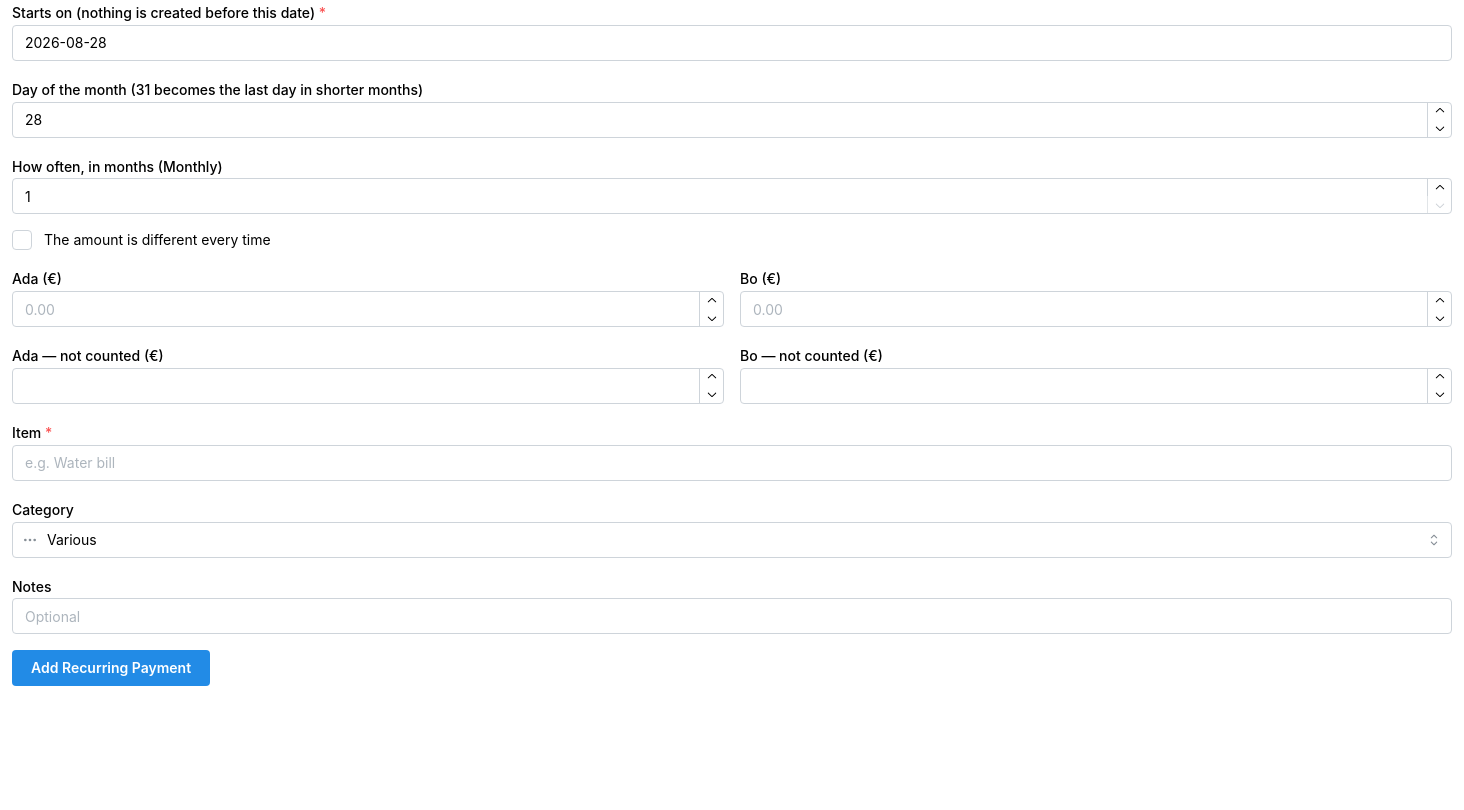
Test case: RecurringForm › refuses more set aside than the payment itself
In the field labelled "Item": (732, 463) [12, 445, 1452, 481], type "Phone bill"
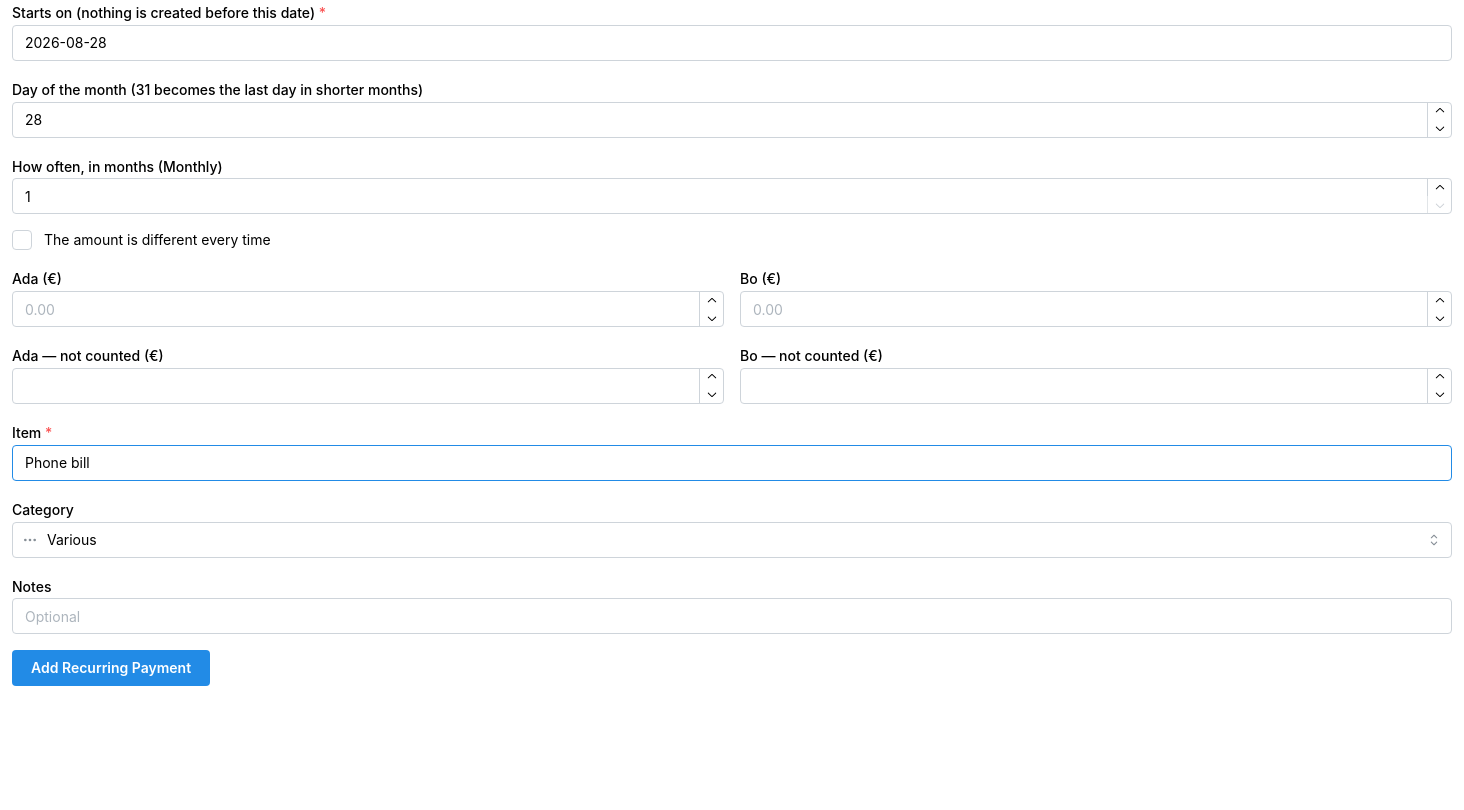
In the field labelled "Ada (€)": (368, 309) [12, 291, 724, 327], type "30"
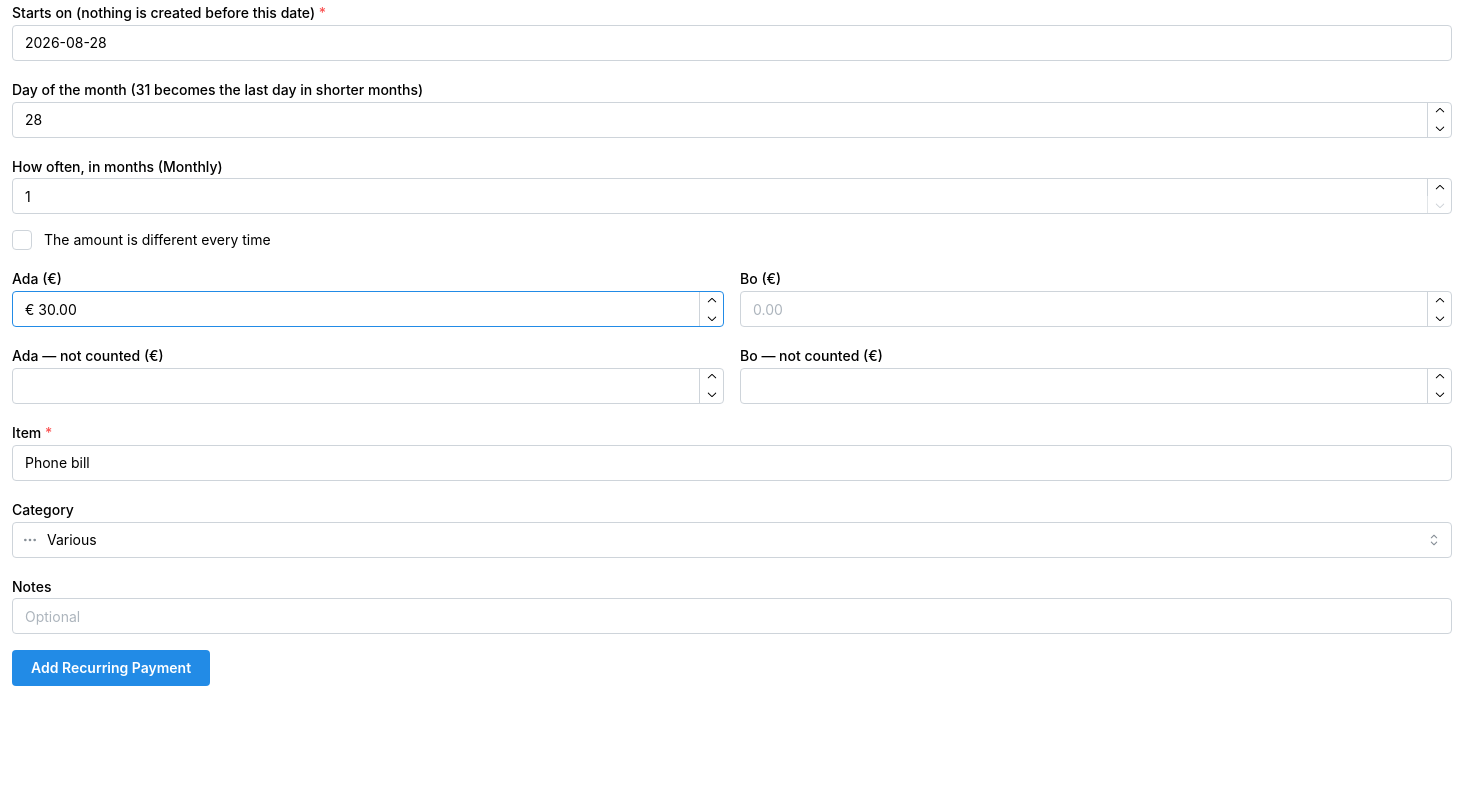
In the field labelled "Ada — not counted (€)": (368, 386) [12, 368, 724, 404], type "50"
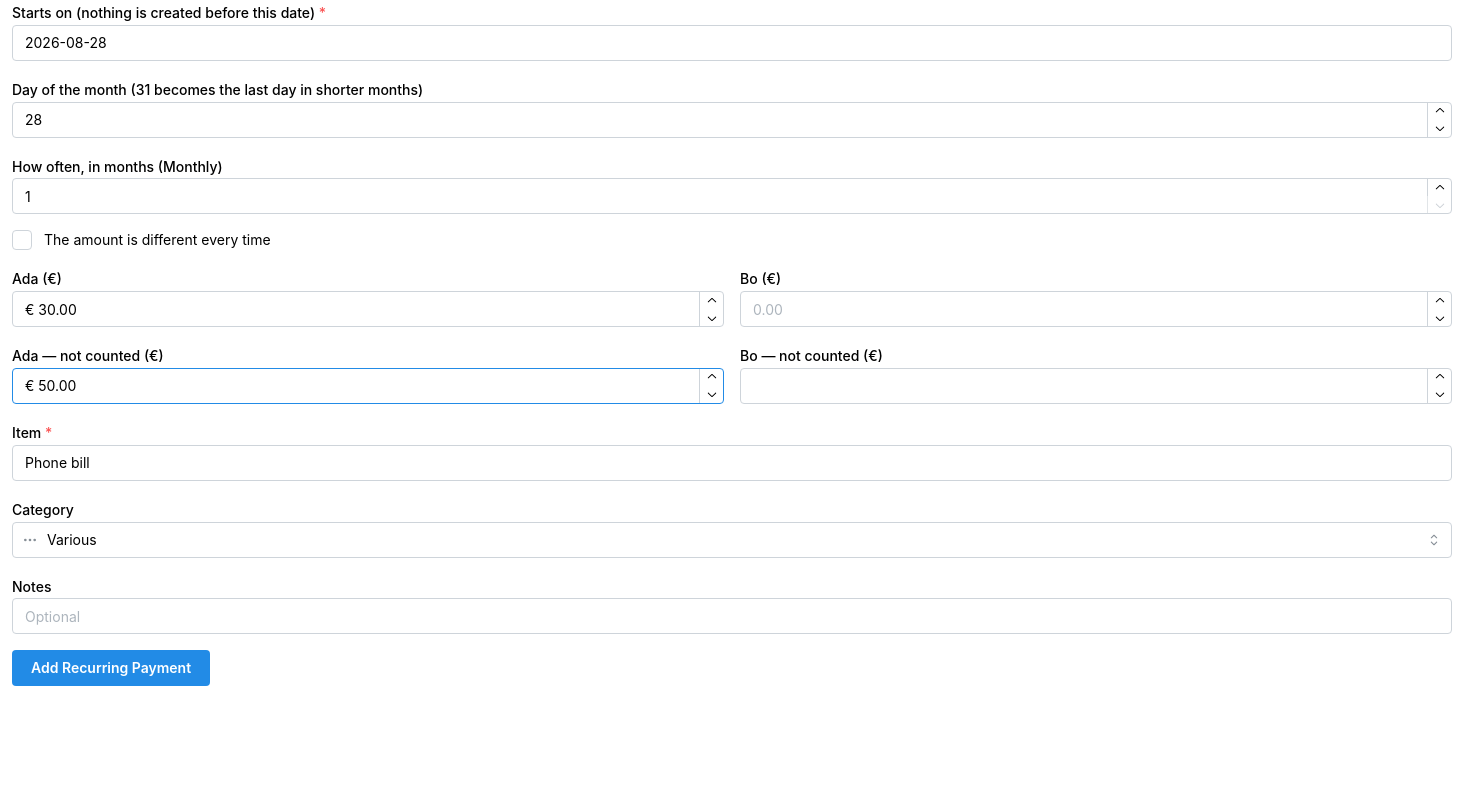
Click the button "Add Recurring Payment": (111, 668) [12, 650, 210, 686]
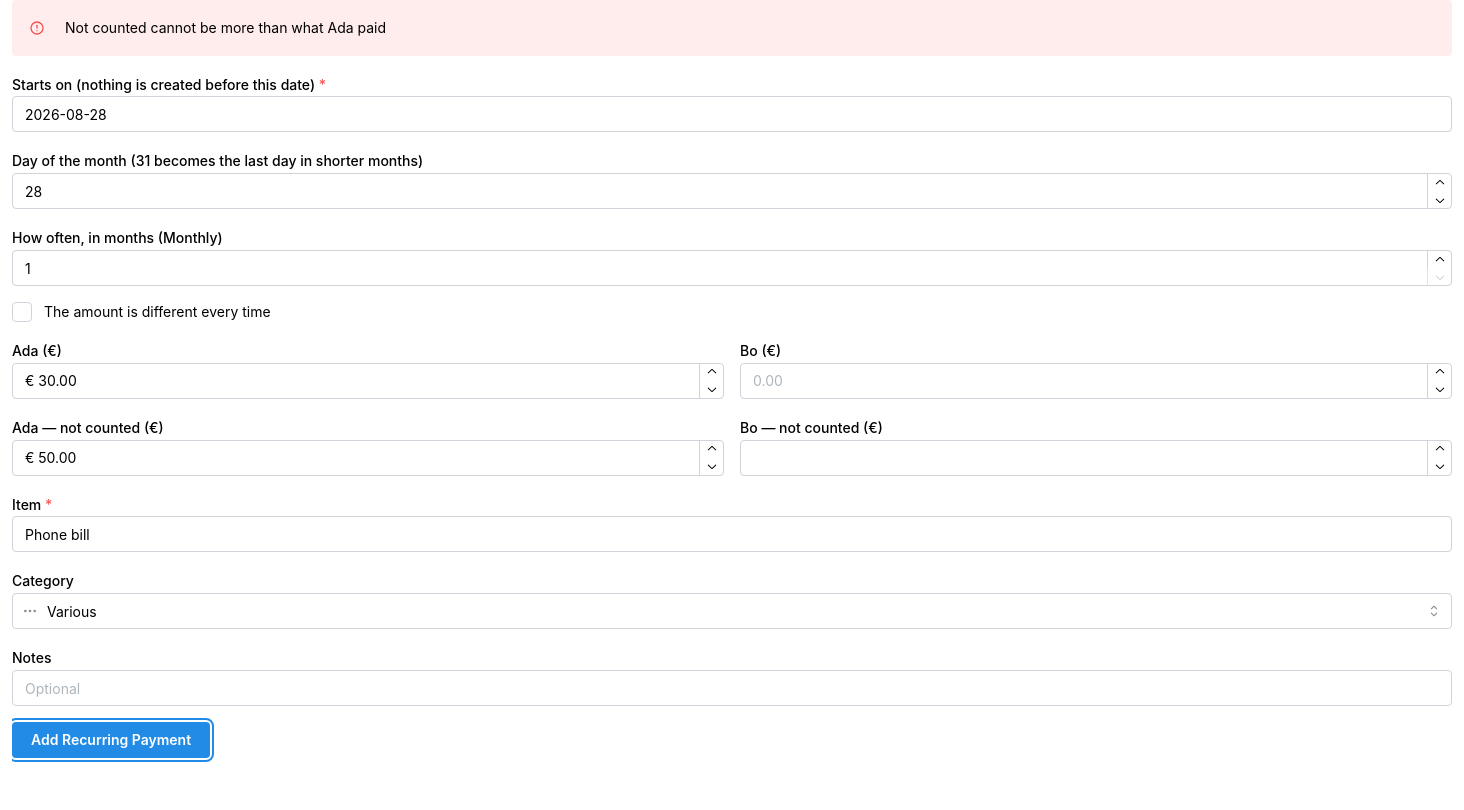
Expected: the text "Not counted cannot be more than what Ada paid" is shown, [65, 19, 386, 36]
